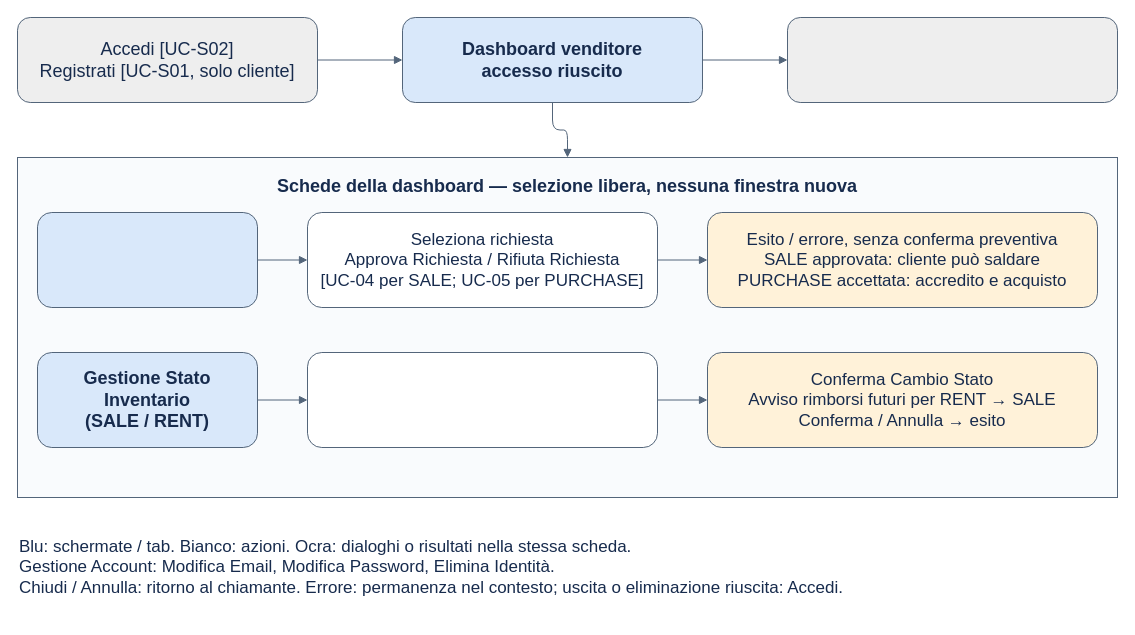
This 1135x635 diagram has some shape labels left out. Here are the shapes that lost their labels. From the top down, the centre of each, then its label:
the point at 952,59: Header: Gestione Account [UC-S03] Disconnetti → Accedi
the point at 147,260: Richieste in Sospeso
the point at 482,400: Seleziona veicolo Modifica Stato [UC-08]
